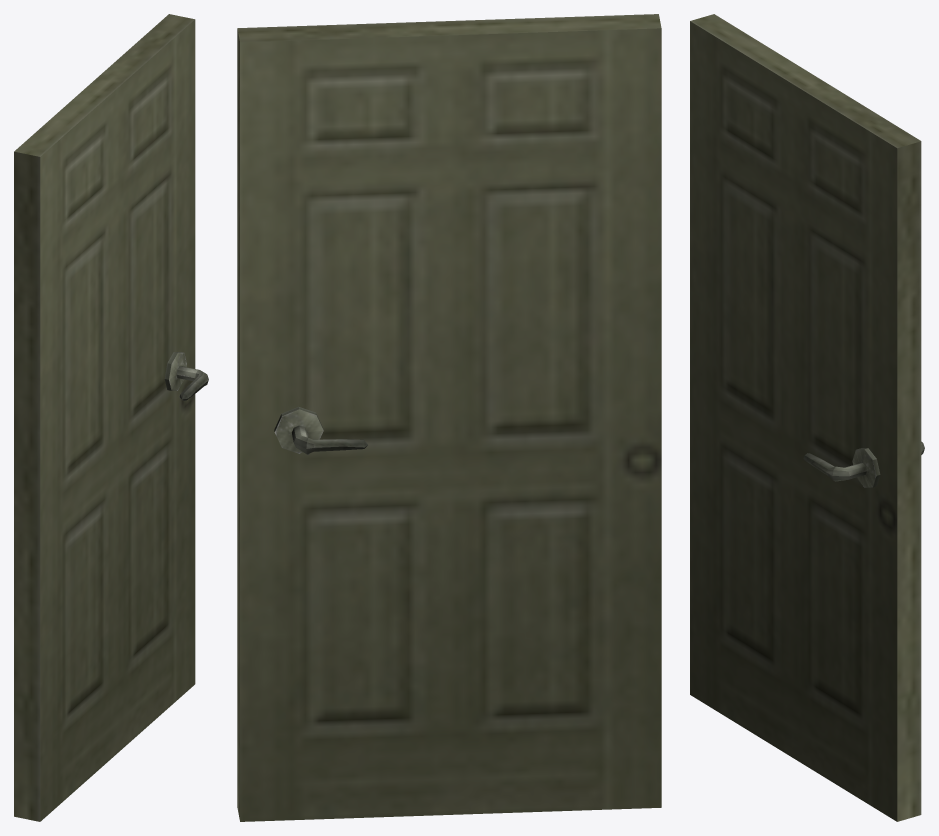
File: Door.fbx
The picture shows the model from 3 angles, left to right: view 1: azimuth 30°, elevation 25°; view 2: azimuth 150°, elevation 25°; view 3: azimuth 270°, elevation 25°; orthographic projection. The views are drawn at different scales.
Visible parts, largest first — view 1: Cube; view 2: Cube; view 3: Cube.
Part boxes in pixels (x1,y1,x2,y2): Cube: [14, 14, 208, 821]; Cube: [237, 14, 661, 821]; Cube: [690, 14, 924, 821].
Bounding box in the file's own units: 164 × 384 × 122.
